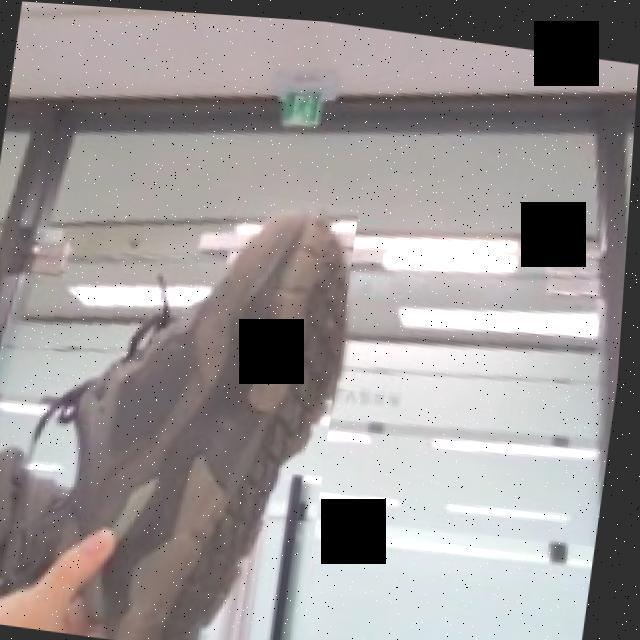shoe: (9, 165, 362, 640)
